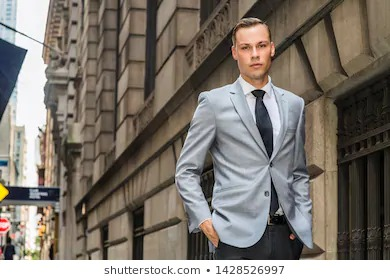F_M_suit jacket: (172, 73, 319, 251)
F_tie: (250, 87, 276, 155)
